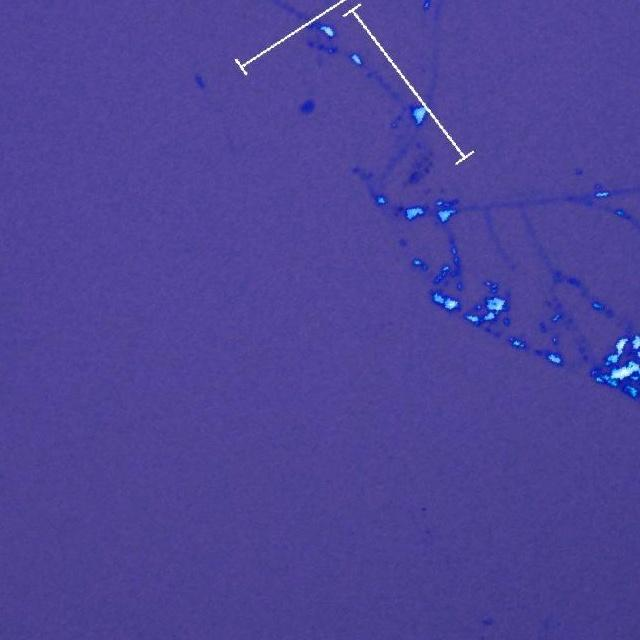monolayer-eWW4: (299, 98, 315, 115)
